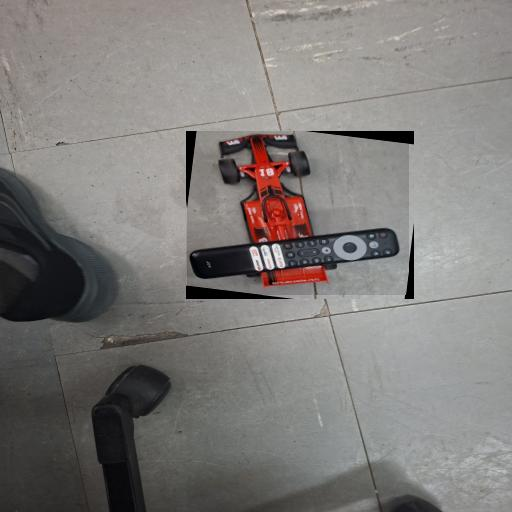carro: (187, 132, 408, 295)
